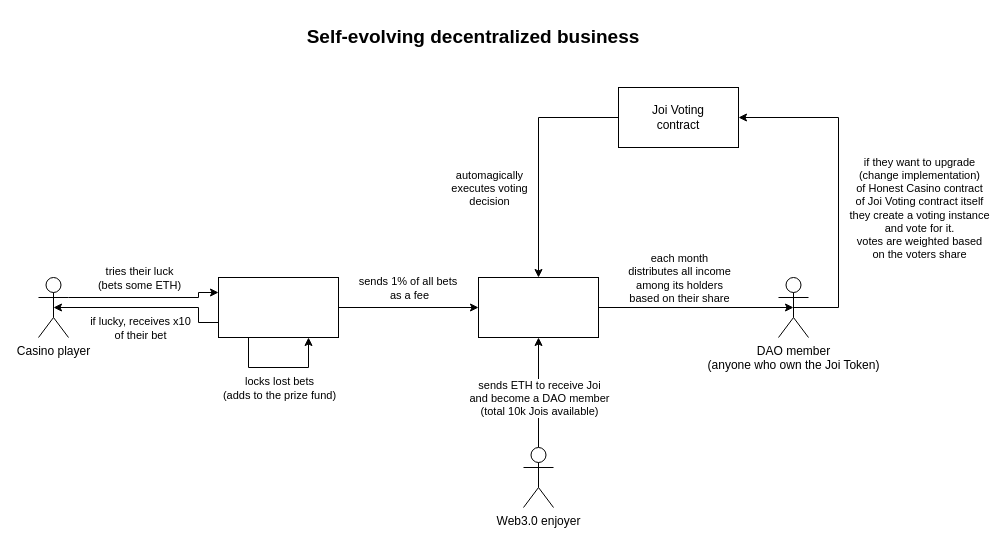
This 1006x545 diagram has some shape labels left out. The centre of each missing label's shape, as x and y in pixels:
Honest Casino contract: point 278,307
Joi Token contract: point 538,307
